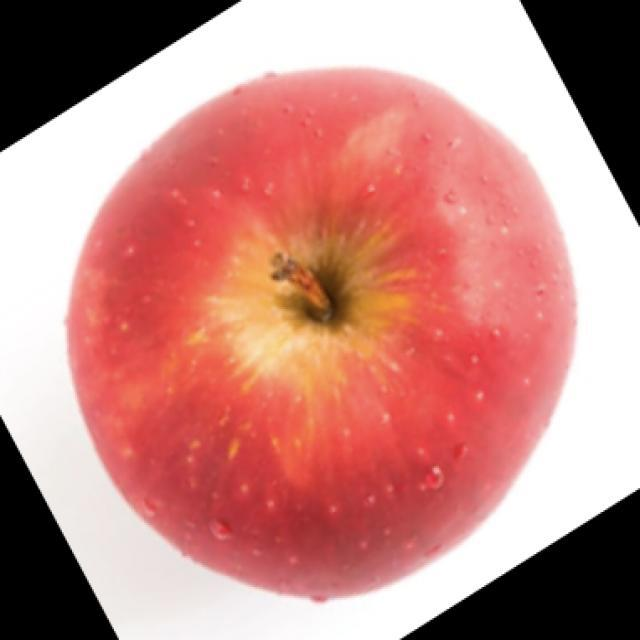Fresh Apple: (70, 80, 558, 592)
